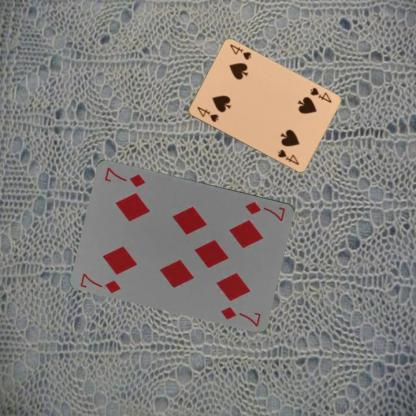4s: (194, 104, 220, 124), (307, 85, 333, 104)
7d: (78, 270, 122, 295), (242, 199, 286, 222)
